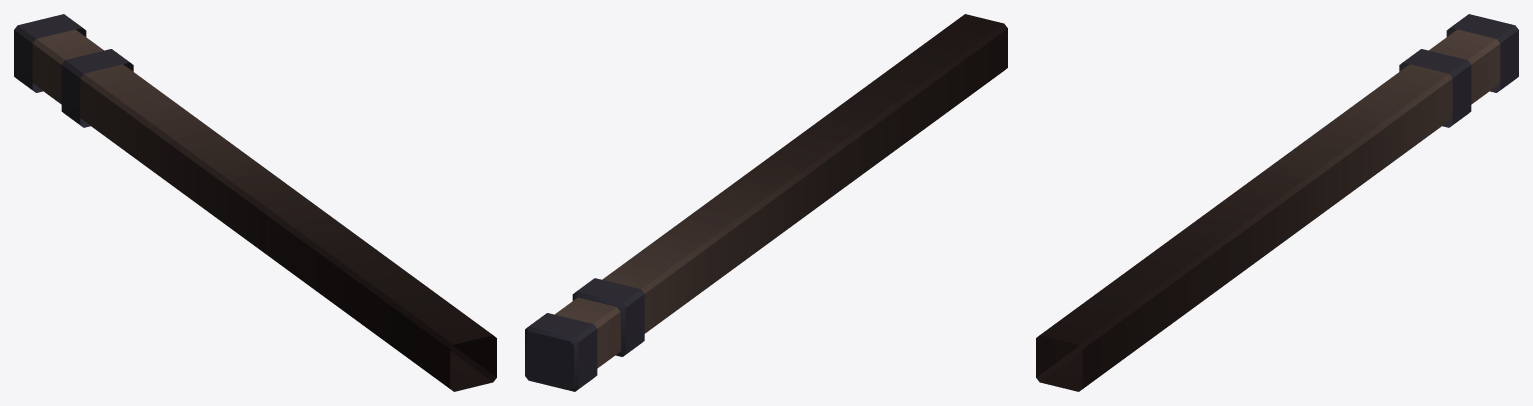
Rendered from Wood Bridge Btm 01.FBX.
The picture shows the model from 3 angles, left to right: view 1: azimuth 30°, elevation 25°; view 2: azimuth 150°, elevation 25°; view 3: azimuth 330°, elevation 25°; orthographic projection.
Parts seen in each view (by area): view 1: Wood Bridge Btm 01; view 2: Wood Bridge Btm 01; view 3: Wood Bridge Btm 01.
Boxes of the visible parts, left/top/right/bottom form: Wood Bridge Btm 01: left=14, top=14, right=496, bottom=391; Wood Bridge Btm 01: left=525, top=14, right=1007, bottom=391; Wood Bridge Btm 01: left=1036, top=14, right=1518, bottom=391.
Size of the model in its own units: 56.14 by 54.31 by 790.
